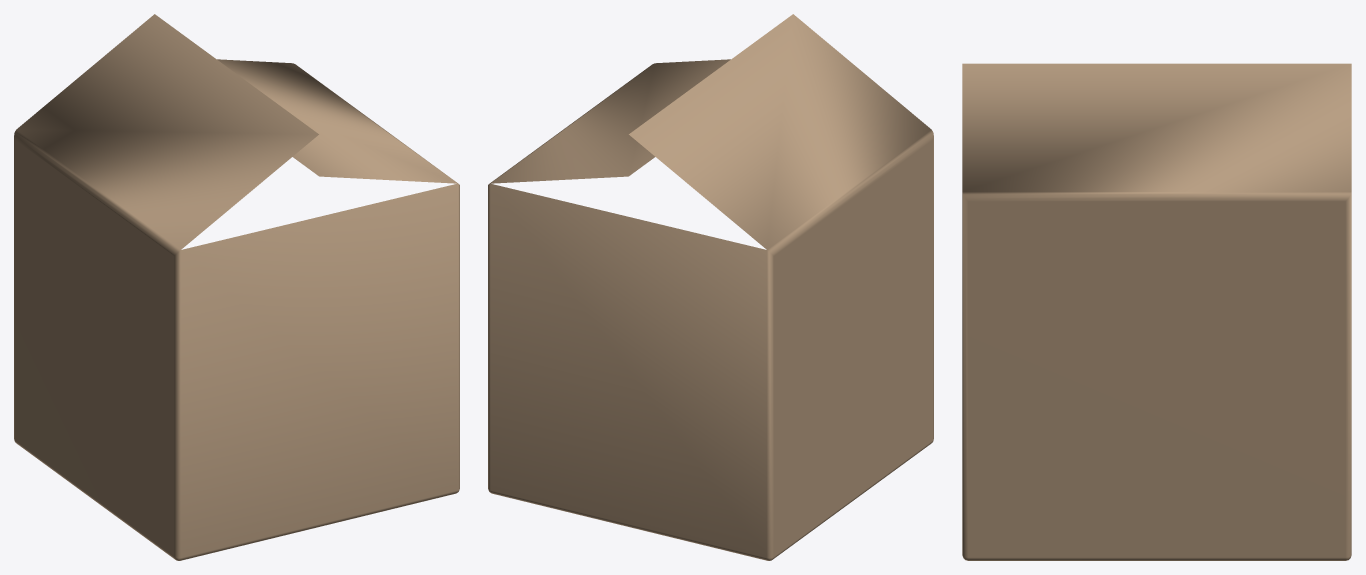
File: cardboardBoxClosed.glb
3 views of the same model, side by side, from view 1: azimuth 30°, elevation 25°; view 2: azimuth 150°, elevation 25°; view 3: azimuth 270°, elevation 25° (orthographic). The views are drawn at different scales.
Visible parts, largest first — view 1: cardboardBoxClosed(Clone); view 2: cardboardBoxClosed(Clone); view 3: cardboardBoxClosed(Clone).
Part boxes in pixels (<box>): cardboardBoxClosed(Clone): <box>14,14,459,560</box>; cardboardBoxClosed(Clone): <box>488,14,933,560</box>; cardboardBoxClosed(Clone): <box>962,63,1351,560</box>.
Size of the model in its own units: 0.2125 by 0.281 by 0.2125.
